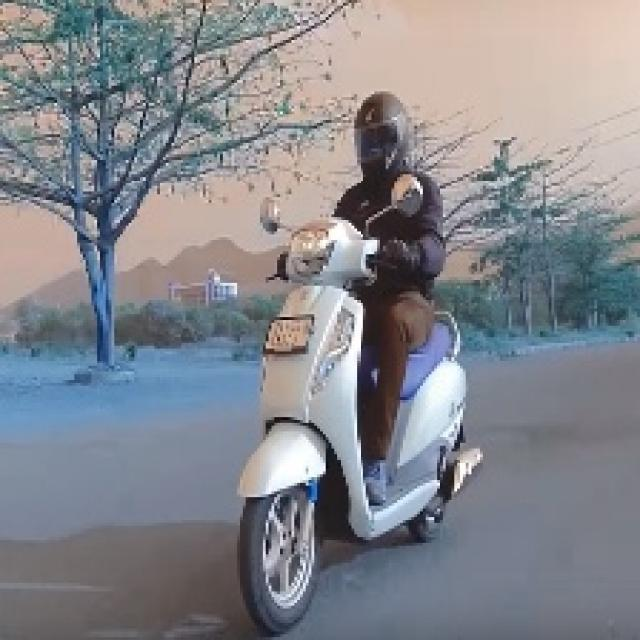bike: (202, 208, 475, 598)
